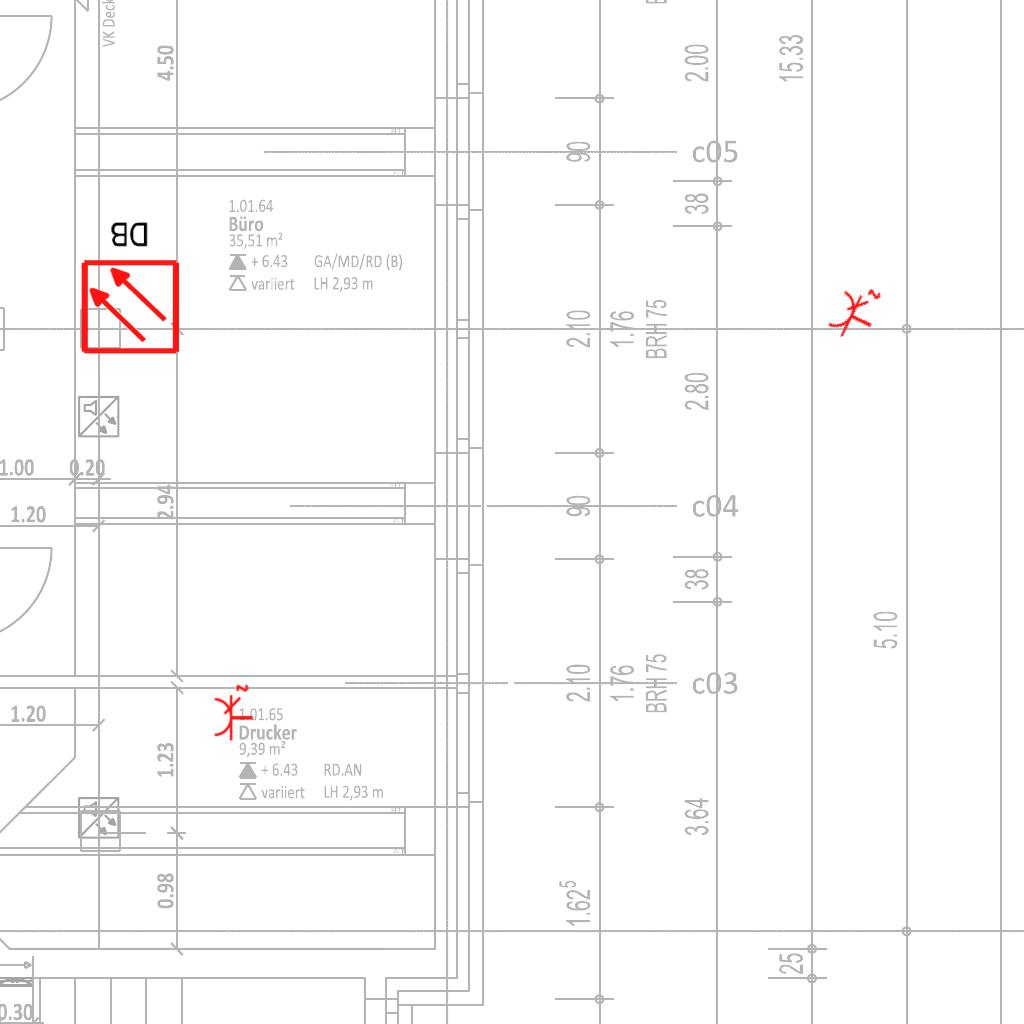DB_Melder_in_Doppelboden_mit_Revisionsoeffnung_mind_40_x_40_cm: (72, 212, 186, 361)
Schukosteckdose_mehrfach: (823, 276, 889, 350), (212, 683, 256, 743)
